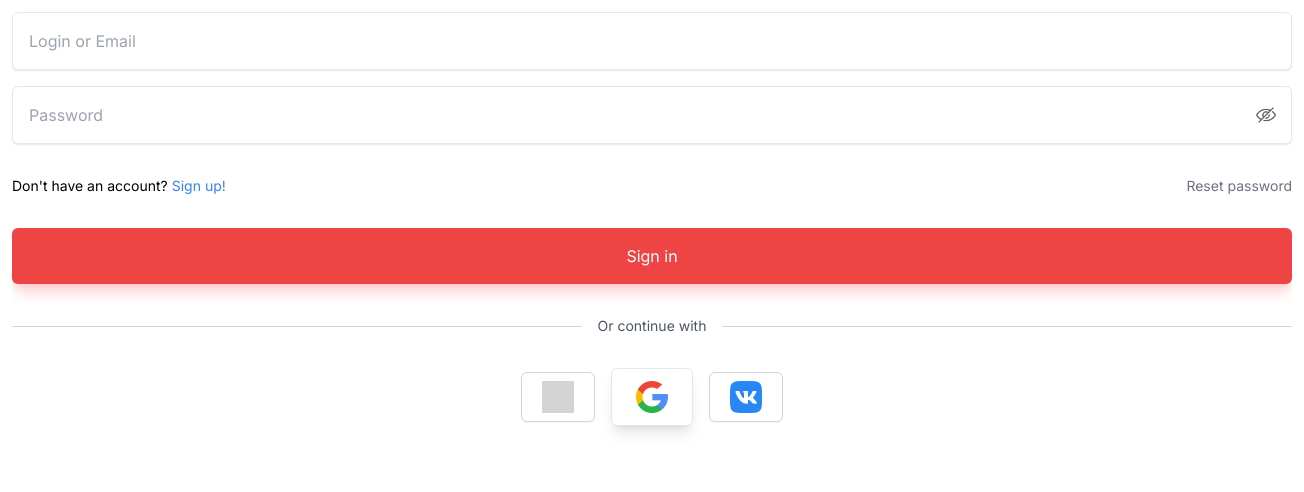
Scenario: <LoginForm /> › 3. Displays error message when server invalidates credentials
Type "user@example.com" into the field with test id "LoginForm.LoginOrEmailInput" at (652, 41), box [12, 12, 1292, 70]
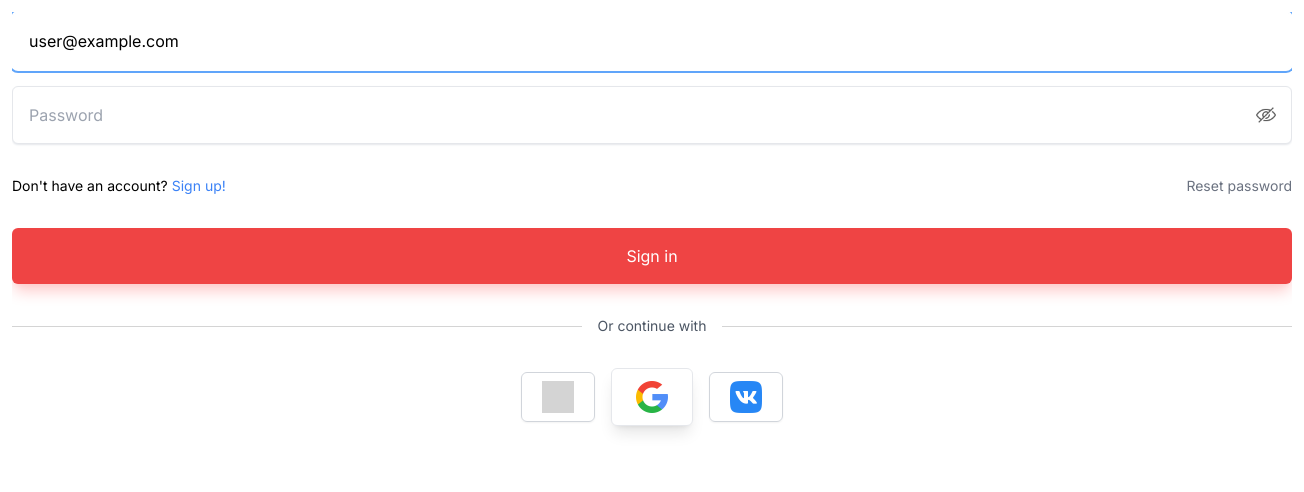
Type "ValidPassword1" into the password field with test id "LoginForm.PasswordInput" at (652, 115), box [12, 86, 1292, 144]
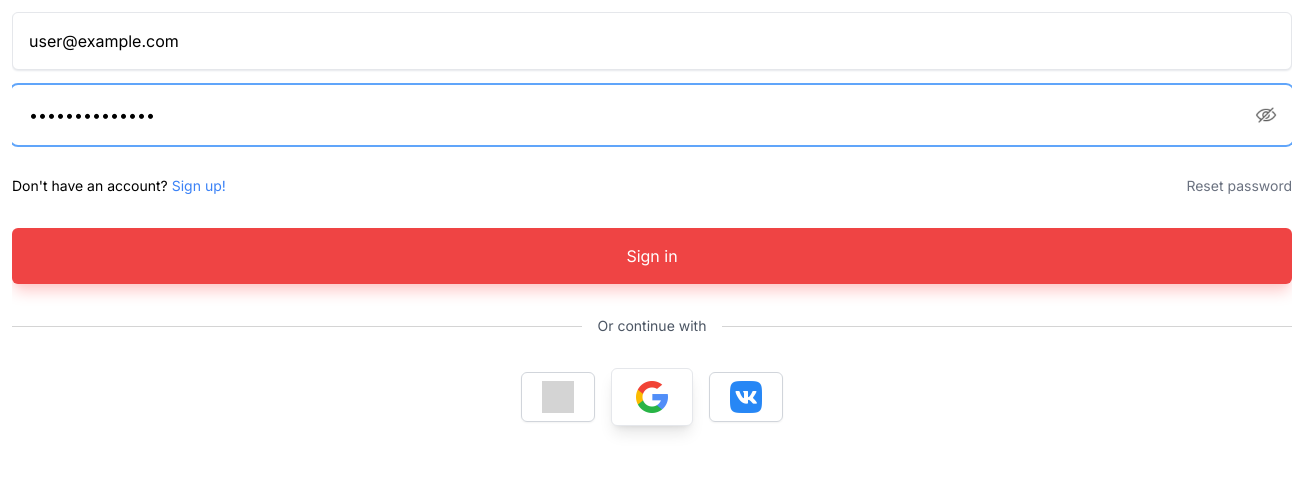
Click the button with test id "SubmittingButton" at (652, 256), box [12, 228, 1292, 284]
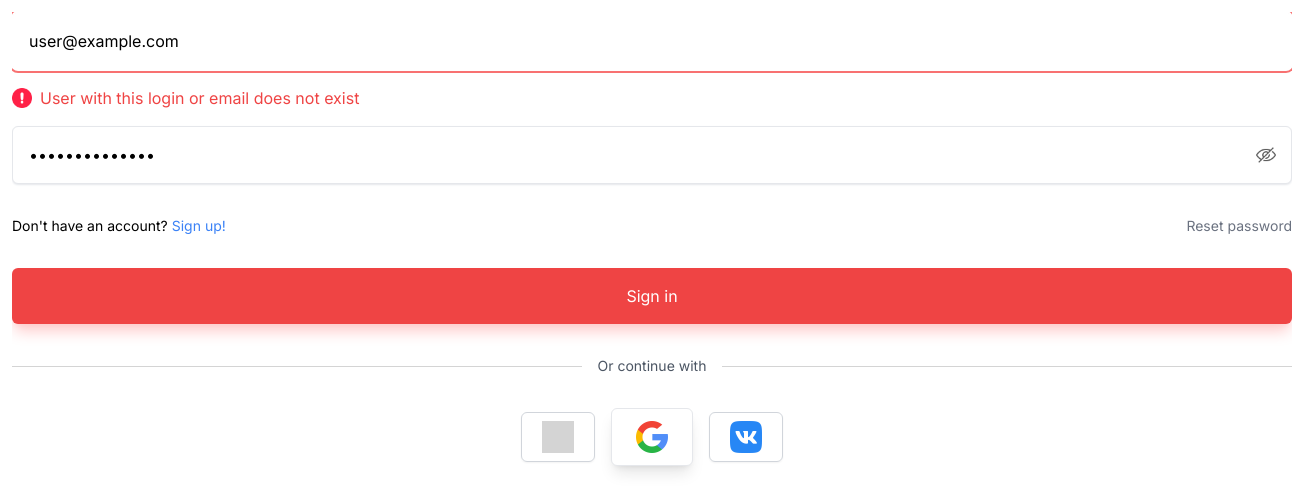
Result: the text with test id "ErrorMessageComponent.Message" reads "User with this login or email does not exist" at [40, 88, 359, 108]
